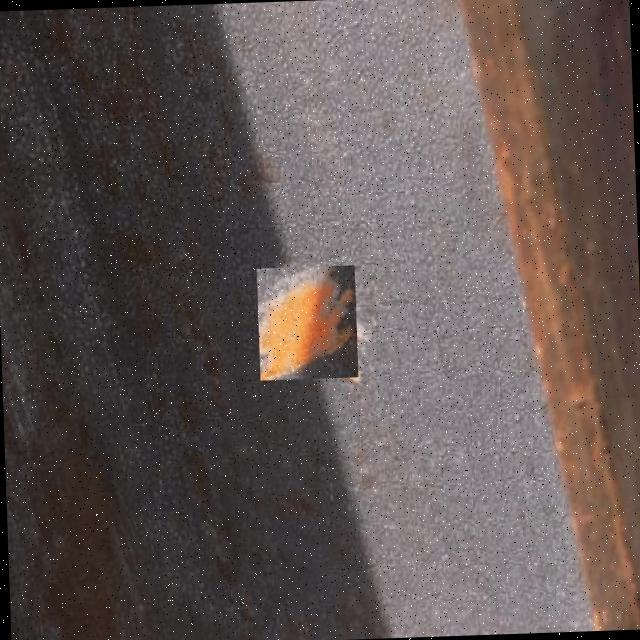Corrosion: (0, 0, 391, 640), (450, 0, 640, 634), (254, 262, 358, 381)
